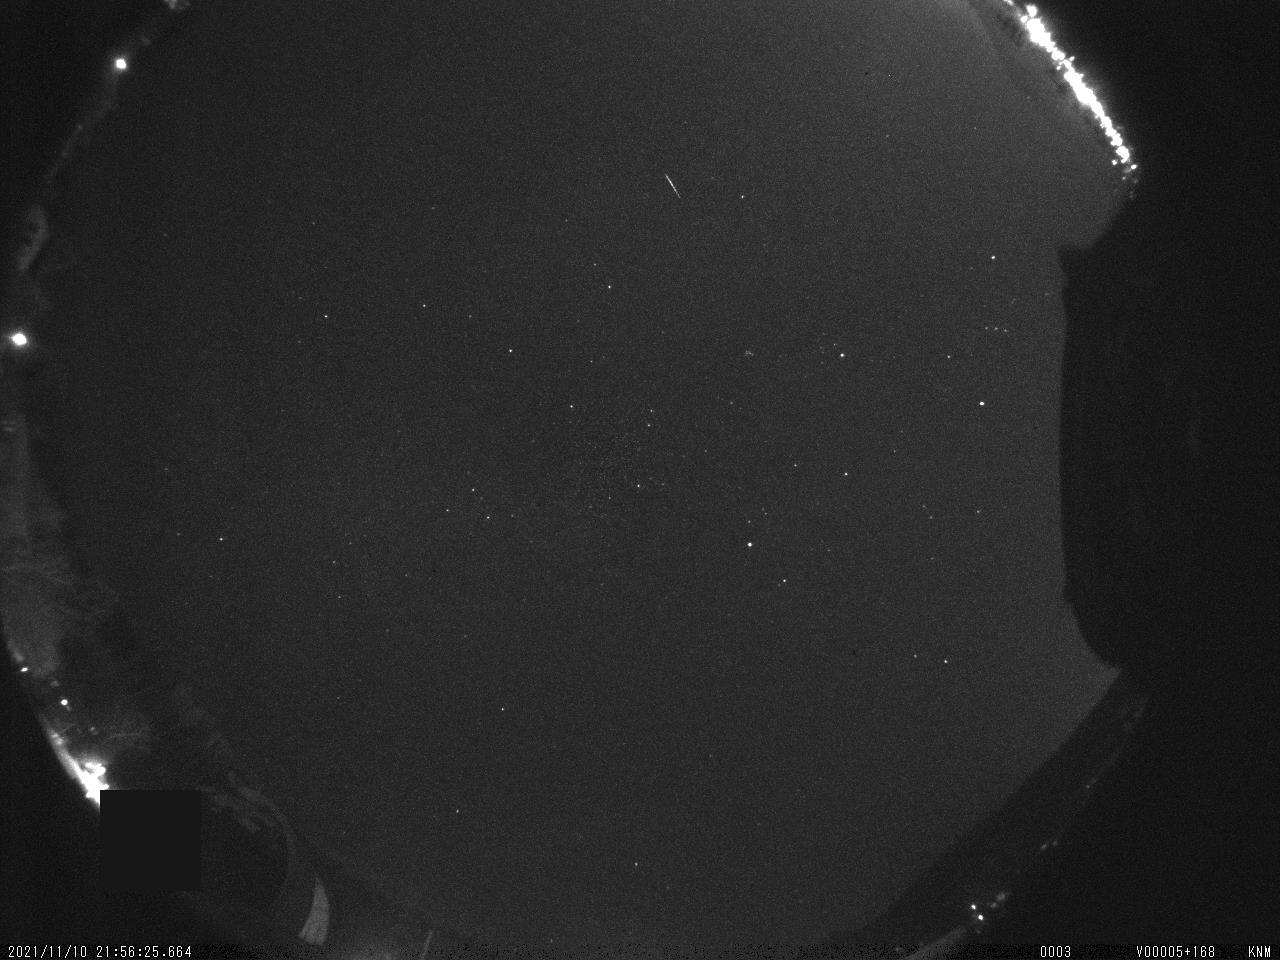meteor: (640, 159, 705, 221)
